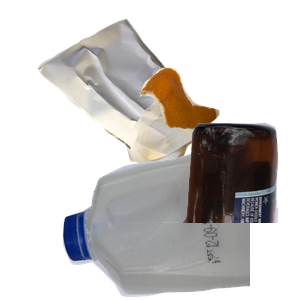glass: (87, 120, 300, 300)
paper: (35, 10, 237, 178)
plastic: (60, 135, 300, 300)
trash: (137, 65, 300, 188)
